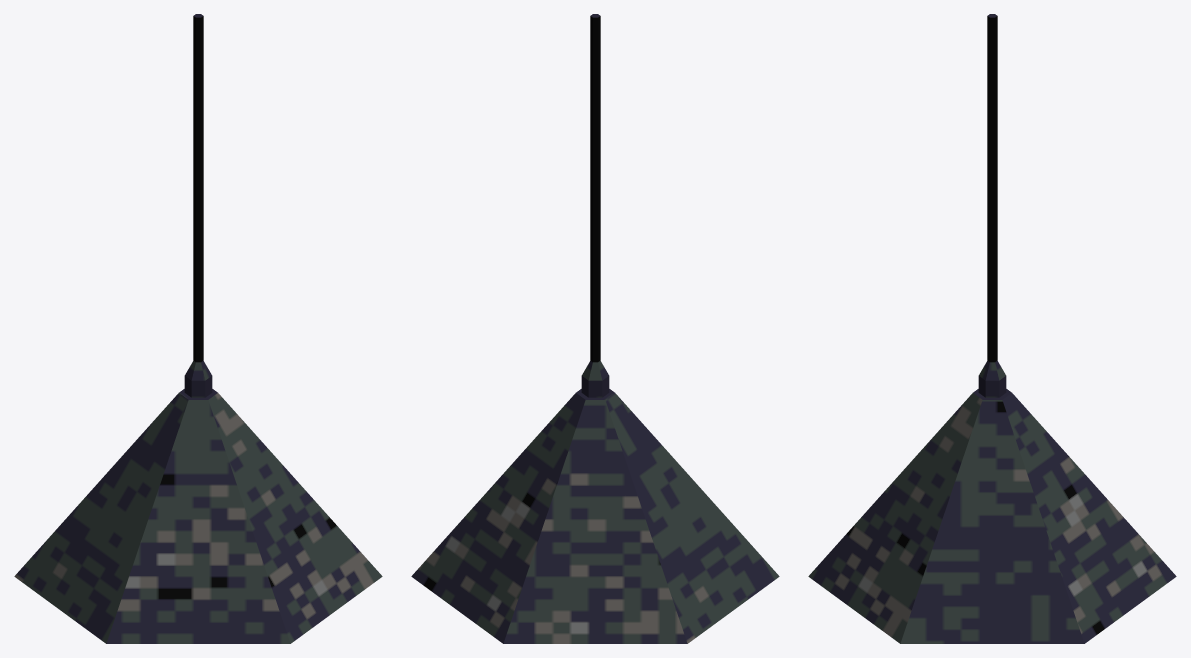
Rendered from Lamp pendant.fbx.
The picture shows the model from 3 angles, left to right: view 1: azimuth 30°, elevation 25°; view 2: azimuth 150°, elevation 25°; view 3: azimuth 270°, elevation 25°; orthographic projection.
Parts seen in each view (by area): view 1: Cone; view 2: Cone; view 3: Cone.
Boxes of the visible parts, x1,y1,x2,y2 form: Cone: (14, 14, 382, 643); Cone: (411, 14, 779, 643); Cone: (808, 14, 1176, 643).
Bounding box in the file's own units: 49.39 × 95.75 × 57.04.
2 materials, 2 textured.
